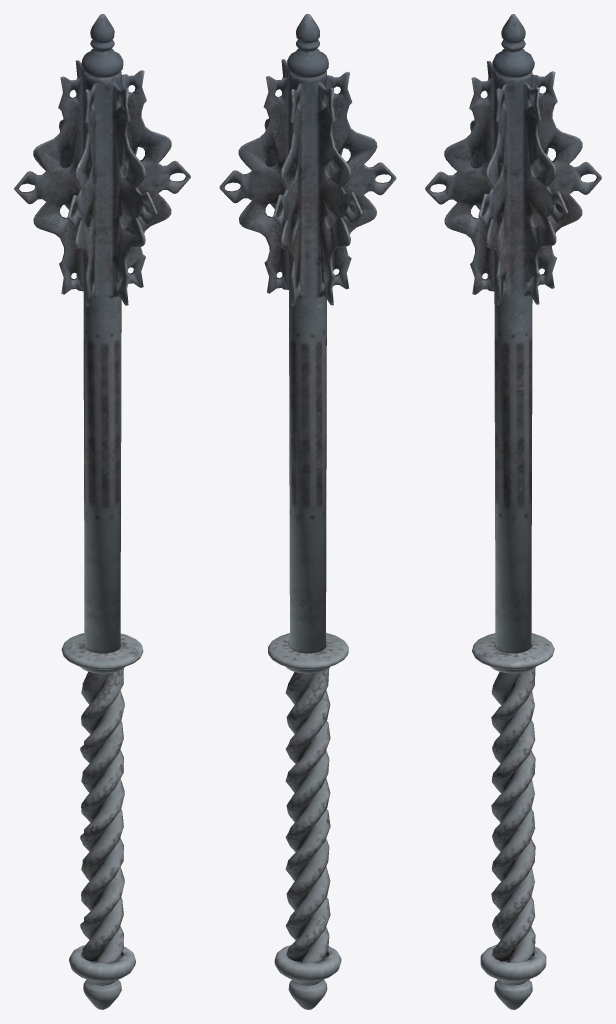
Rendered from mace.glb.
3 views of the same model, side by side, from view 1: azimuth 30°, elevation 25°; view 2: azimuth 150°, elevation 25°; view 3: azimuth 270°, elevation 25° (orthographic).
Visible parts, largest first — view 1: ornate_medieval_mace; view 2: ornate_medieval_mace; view 3: ornate_medieval_mace.
Boxes of the visible parts, x1,y1,x2,y2 form: ornate_medieval_mace: [14, 14, 190, 1009]; ornate_medieval_mace: [219, 14, 396, 1009]; ornate_medieval_mace: [425, 14, 601, 1009].
Size of the model in its own units: 0.0949 by 0.63 by 0.1015.
Materials: 1 (1 with a texture image).
